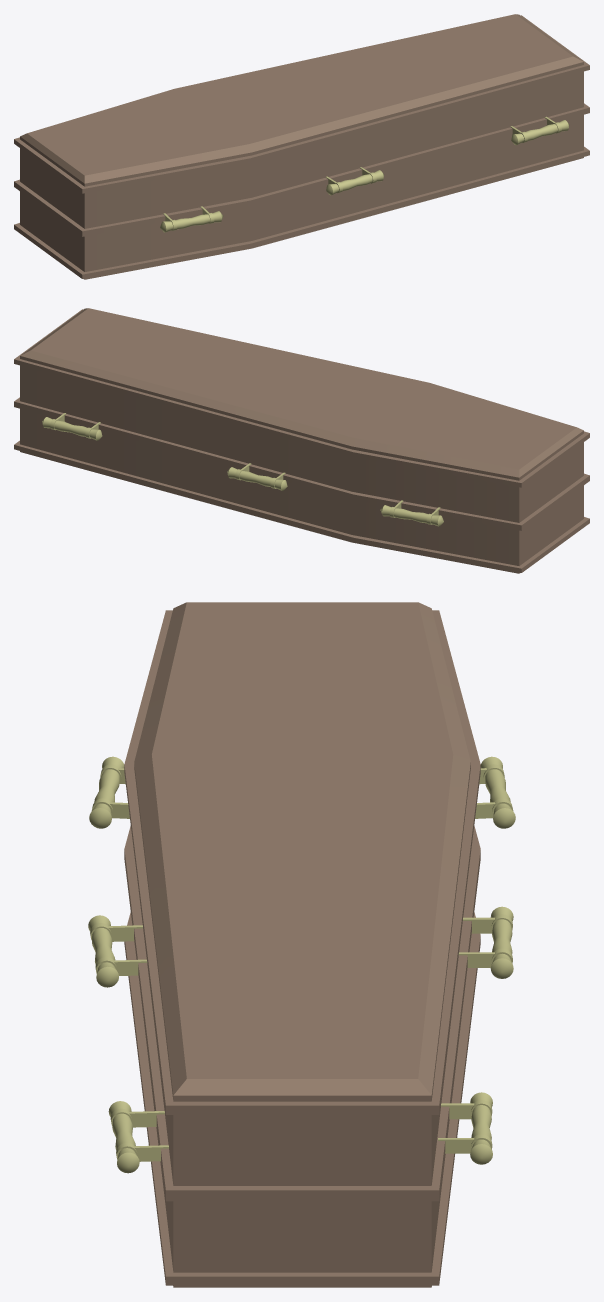
The model's file is Coffin1_export1.fbx.
The picture shows the model from 3 angles, top to bottom: view 1: azimuth 30°, elevation 25°; view 2: azimuth 150°, elevation 25°; view 3: azimuth 270°, elevation 25°; orthographic projection. The views are drawn at different scales.
Parts seen in each view (by area): view 1: MainCoffin, pCylinder1 (×3); view 2: MainCoffin, pCylinder1 (×3); view 3: MainCoffin, pCylinder1 (×6).
Part boxes in pixels (bbox=[...]): MainCoffin: bbox=[14, 14, 589, 279]; pCylinder1 (×3): bbox=[160, 120, 569, 232]; MainCoffin: bbox=[14, 308, 589, 573]; pCylinder1 (×3): bbox=[42, 417, 443, 526]; MainCoffin: bbox=[124, 602, 480, 1287]; pCylinder1 (×6): bbox=[88, 756, 515, 1173].
Bounding box in the file's own units: 6.31 × 1.2 × 2.3.
